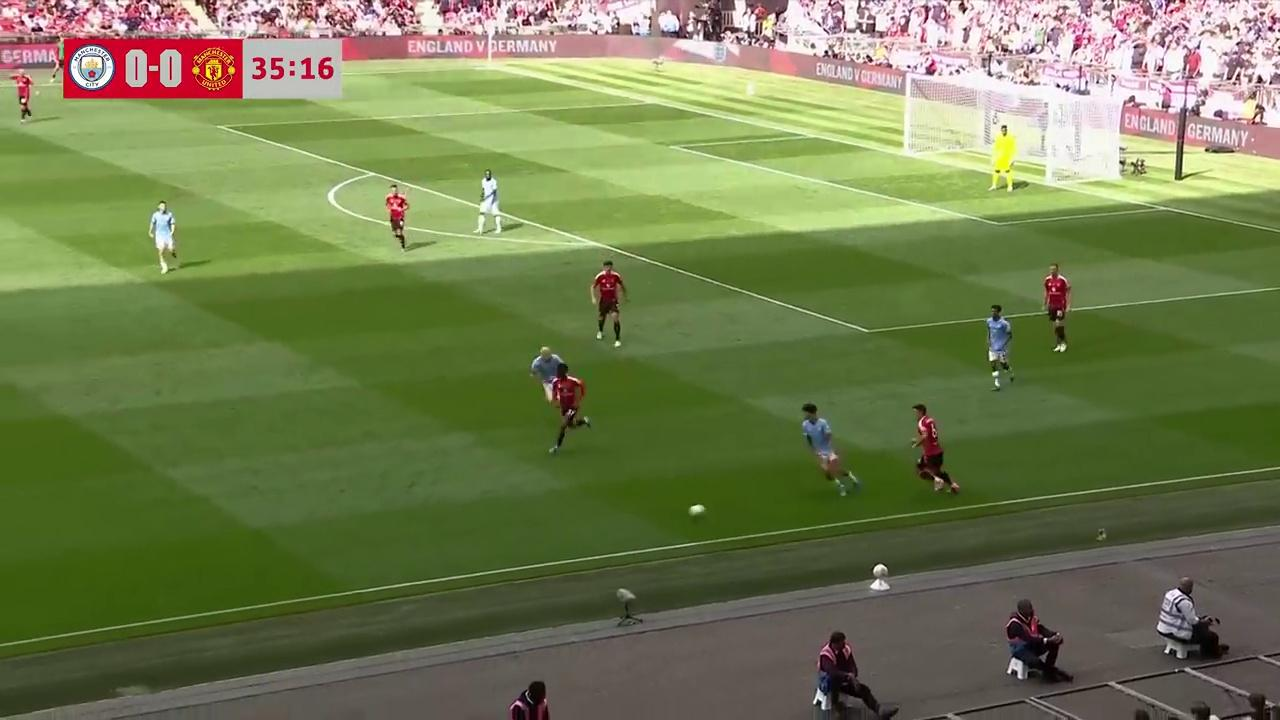ball: (686, 499, 707, 518)
player: (800, 403, 860, 491), (910, 403, 959, 494), (547, 363, 591, 453), (590, 259, 627, 347), (985, 304, 1015, 390), (1043, 262, 1071, 353), (528, 346, 567, 407), (149, 200, 178, 274), (987, 124, 1016, 192), (474, 169, 502, 236), (384, 183, 409, 252), (13, 69, 34, 122)
